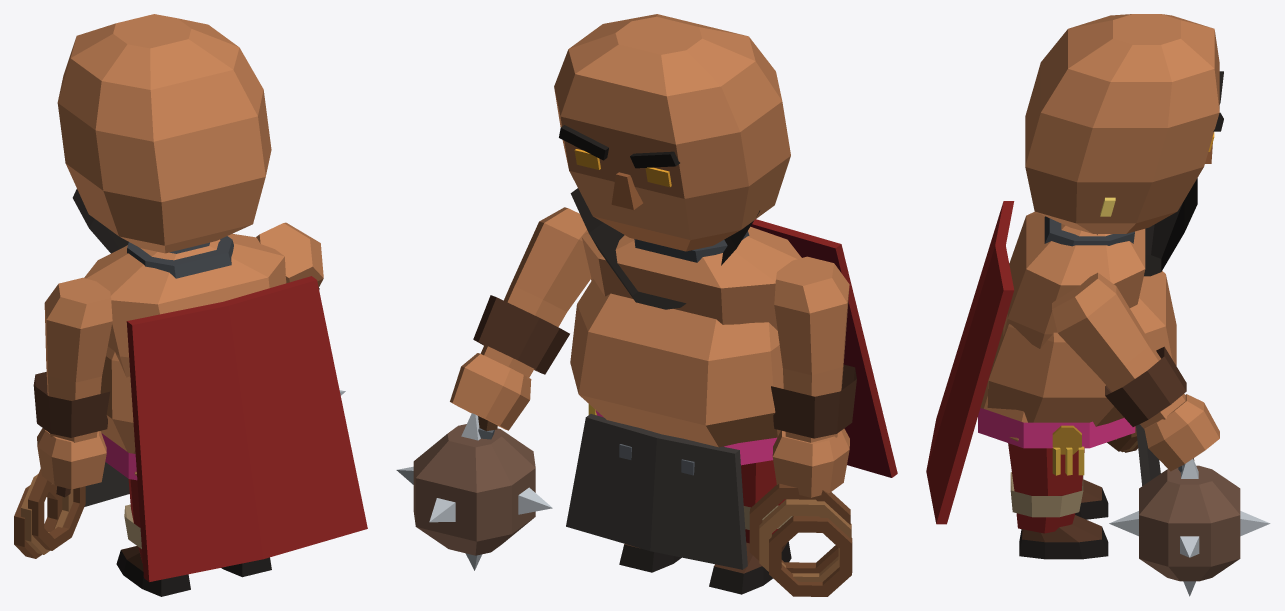
File: EN_Gorm.fbx
The picture shows the model from 3 angles, left to right: view 1: azimuth 30°, elevation 25°; view 2: azimuth 150°, elevation 25°; view 3: azimuth 270°, elevation 25°; orthographic projection. The views are drawn at different scales.
Parts seen in each view (by area): view 1: Body, Head, ArmL, LegL, ArmR, LegR; view 2: Body, Head, ArmL, ArmR, Flail, LegL, LegR; view 3: Head, Body, ArmR, Flail, LegR, LegL.
Part boxes in pixels (<box>): Body: <box>84,233,367,581</box>; Head: <box>57,14,271,253</box>; ArmL: <box>14,277,112,558</box>; LegL: <box>116,479,190,596</box>; ArmR: <box>256,222,323,289</box>; LegR: <box>221,557,271,577</box>; Body: <box>566,219,897,569</box>; Head: <box>554,14,790,309</box>; ArmL: <box>749,256,856,596</box>; ArmR: <box>450,207,591,430</box>; Flail: <box>396,413,552,570</box>; LegL: <box>709,460,792,594</box>; LegR: <box>619,544,681,572</box>; Head: <box>1025,14,1223,276</box>; Body: <box>926,201,1176,524</box>; ArmR: <box>1052,272,1219,471</box>; Flail: <box>1109,458,1270,596</box>; LegR: <box>1008,443,1108,559</box>; LegL: <box>1075,479,1108,519</box>.
Bounding box in the file's own units: 2.75 × 2.23 × 3.56.
